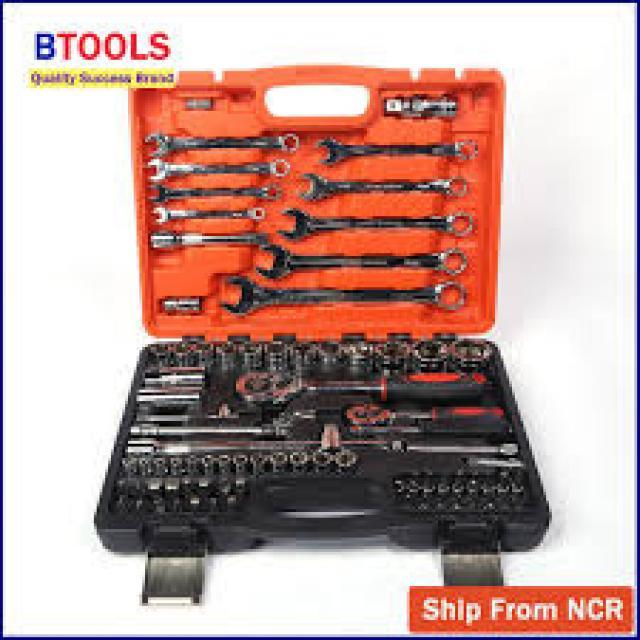wrench: (217, 271, 470, 320), (252, 238, 472, 284), (274, 204, 478, 244), (313, 130, 487, 171), (292, 170, 473, 206), (140, 127, 302, 162), (142, 154, 296, 183), (144, 180, 286, 204), (148, 203, 268, 227)
